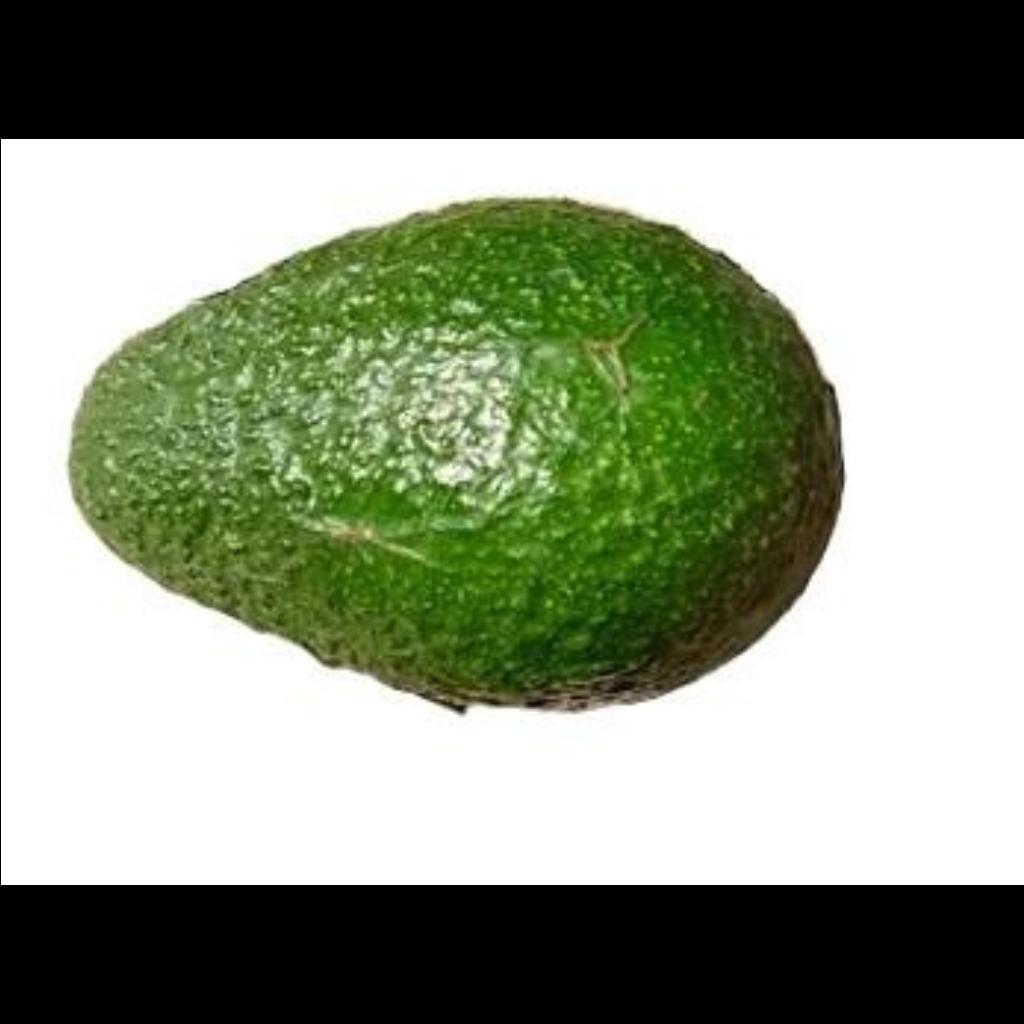Healthy: (70, 196, 850, 708)
